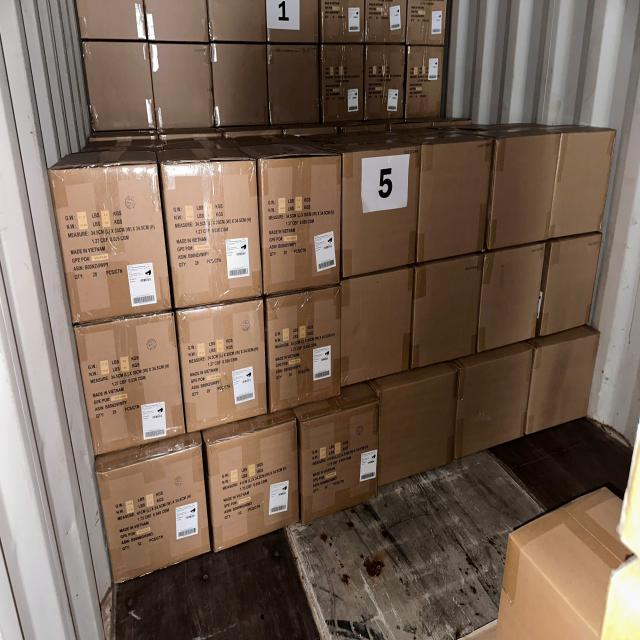Carton: (52, 169, 166, 311), (73, 311, 176, 447), (94, 440, 200, 565), (164, 161, 262, 296), (175, 308, 268, 418), (259, 159, 340, 285), (205, 429, 296, 534), (342, 152, 414, 267), (263, 293, 338, 401), (300, 422, 378, 520), (421, 142, 486, 258), (377, 379, 458, 468), (413, 259, 477, 362), (340, 279, 410, 371), (458, 359, 526, 443), (497, 139, 547, 242), (483, 250, 536, 339), (533, 342, 589, 424), (560, 134, 604, 234), (548, 241, 595, 328)
